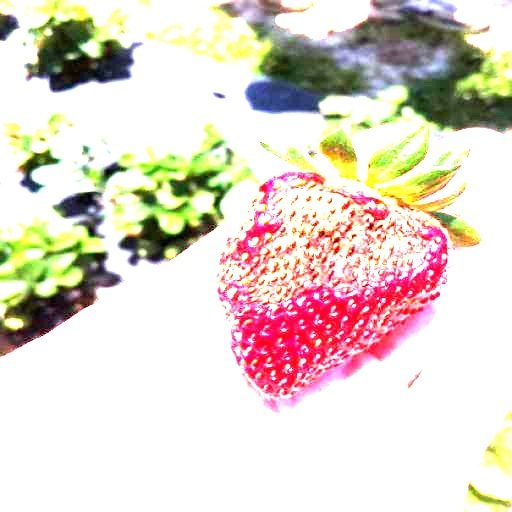Anthracnose Fruit Rot: (212, 170, 455, 336)
